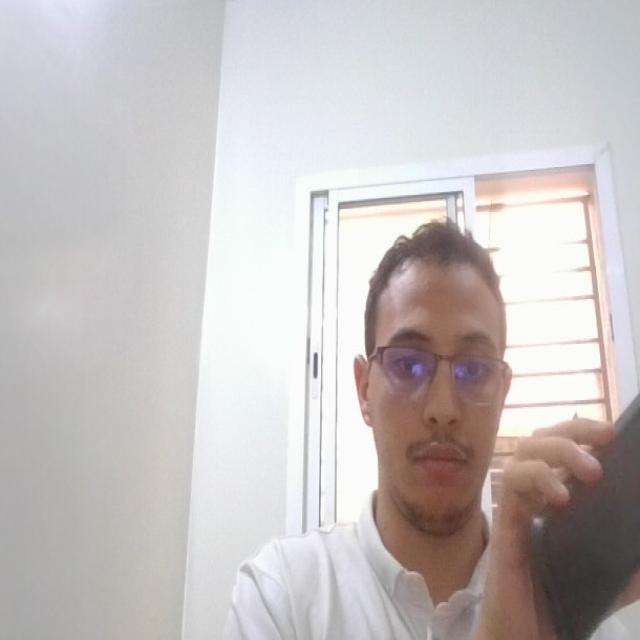phone: (523, 372, 640, 640)
